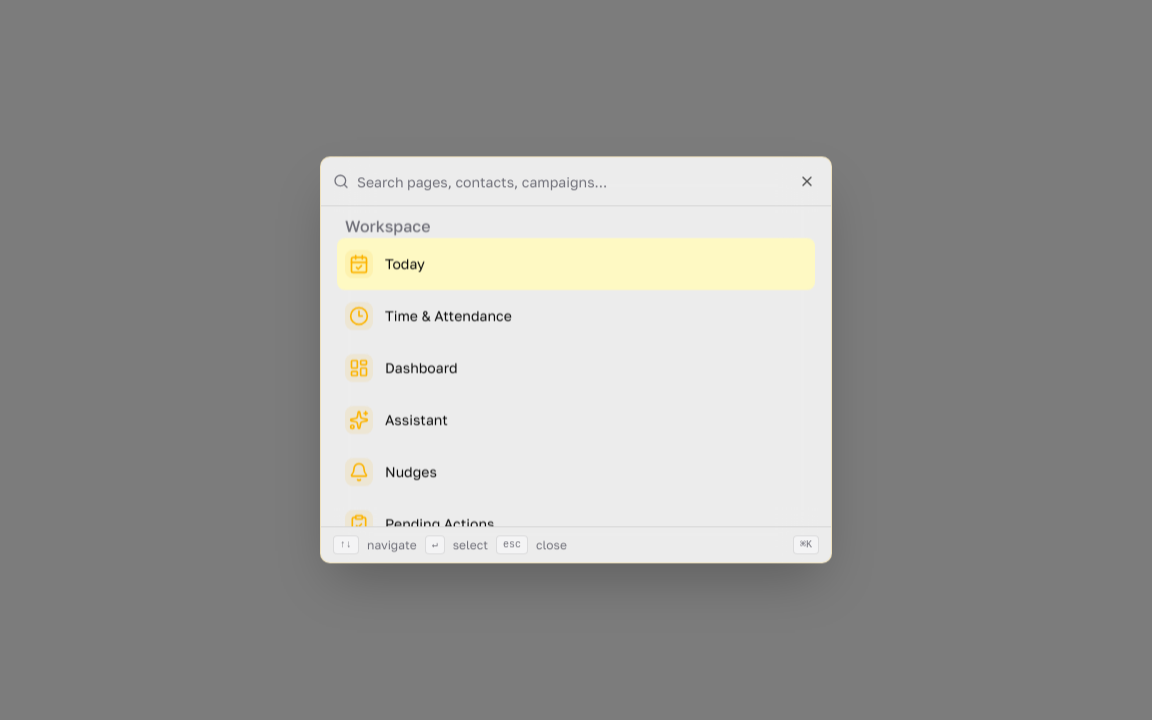
Scenario: CommandPalette › matches pages by url when the title does not contain the query
Type "catalog" into the dropdown with placeholder "Search pages, contacts, campaigns...".
click(588, 181); type("catalog")  # box [357,157,819,205]
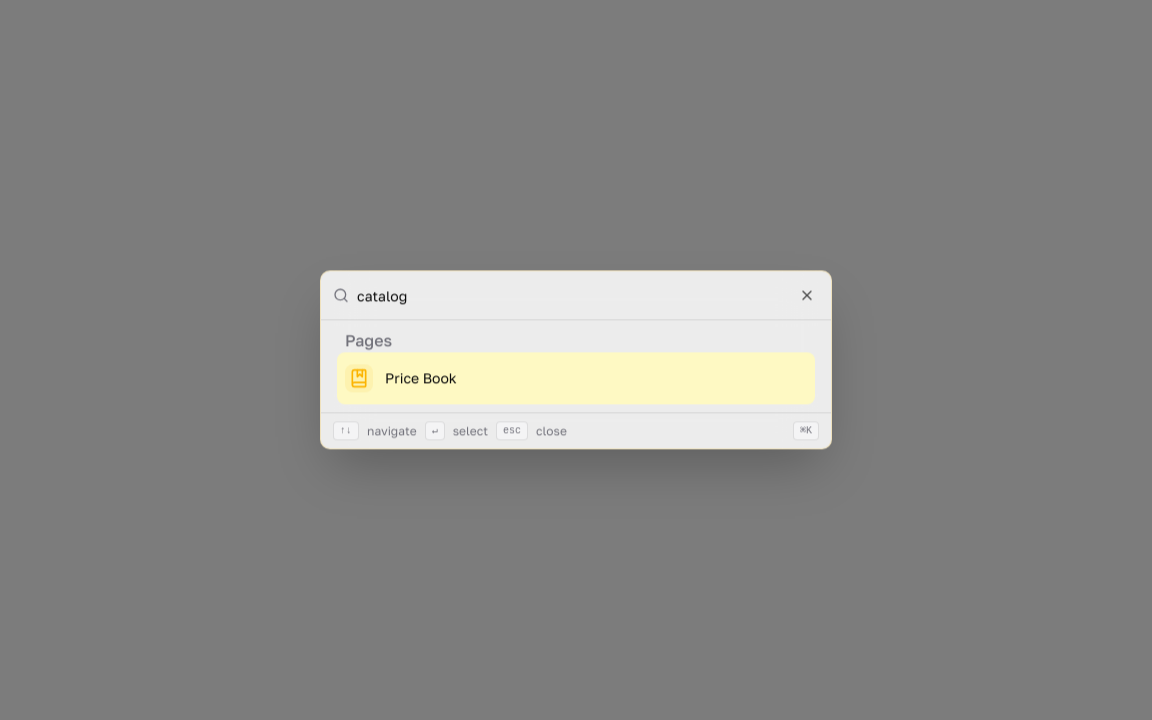
expect the text "Pages" is shown: met, box [345,330,392,350]
expect the option "Price Book" is shown: met, box [337,352,815,404]
